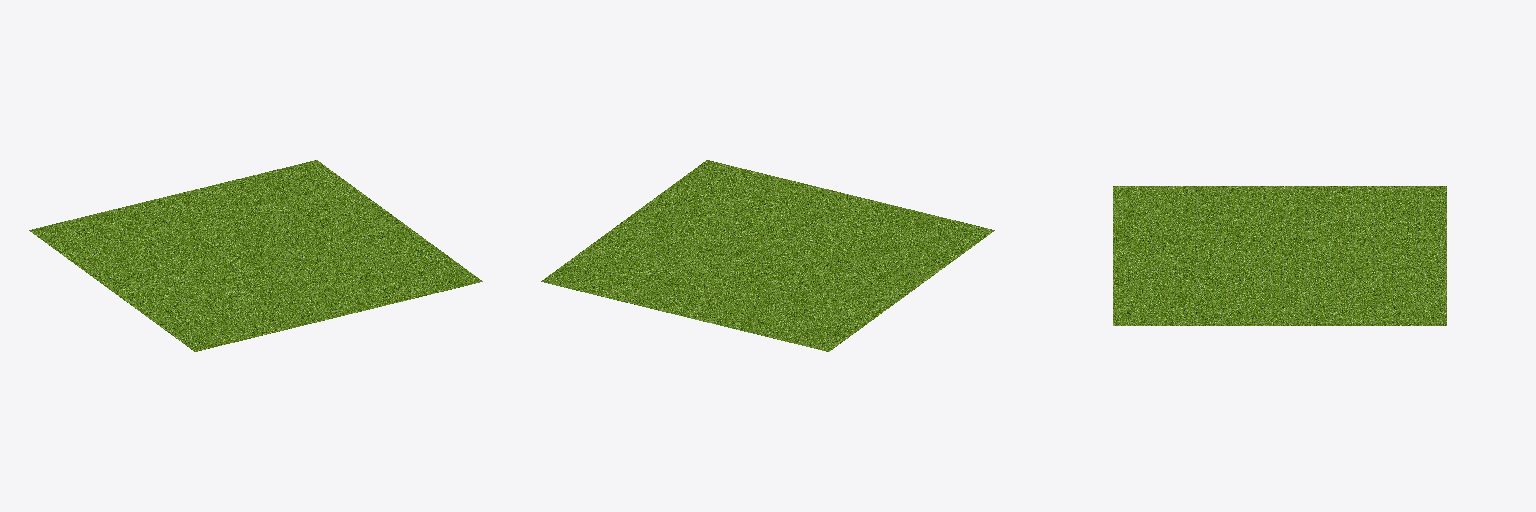
The picture shows the model from 3 angles: view 1: azimuth 30°, elevation 25°; view 2: azimuth 150°, elevation 25°; view 3: azimuth 270°, elevation 25°; orthographic projection.
Visible parts, largest first — view 1: Plane001; view 2: Plane001; view 3: Plane001.
Part boxes in pixels (x1,y1,x2,y2): Plane001: (29, 160, 482, 351); Plane001: (541, 160, 994, 351); Plane001: (1113, 186, 1446, 325).
Bounding box in the file's own units: 300 × 0 × 300.
Materials: 1 (1 with a texture image).